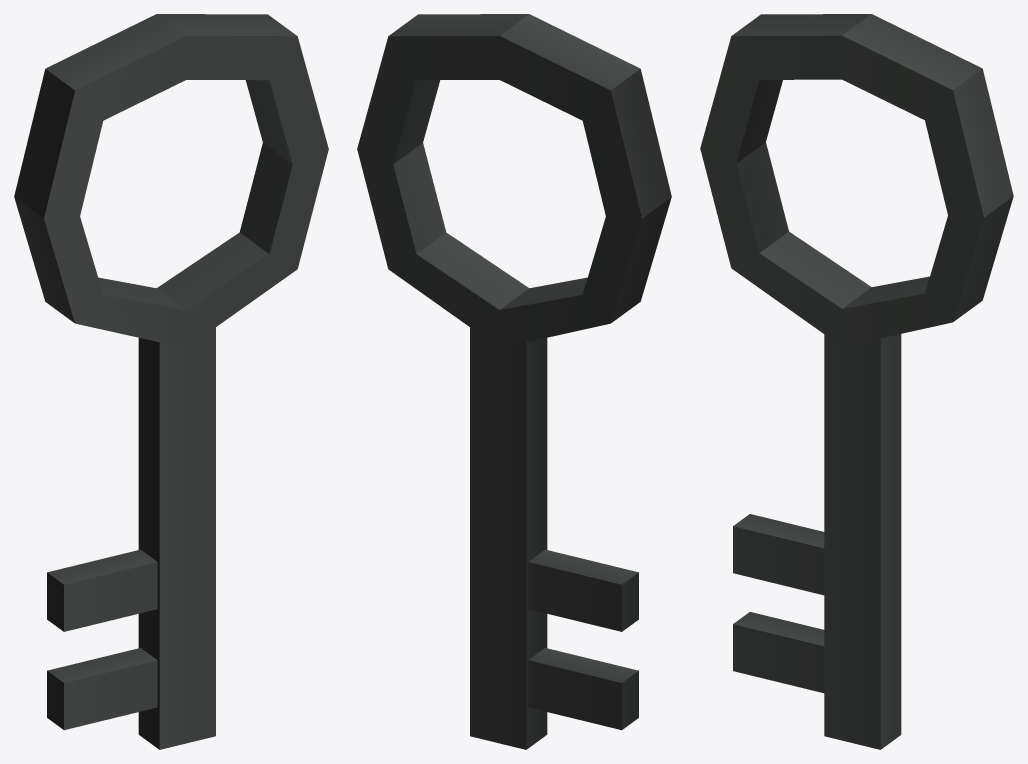
Rendered from Key.fbx.
3 views of the same model, side by side, from view 1: azimuth 30°, elevation 25°; view 2: azimuth 150°, elevation 25°; view 3: azimuth 330°, elevation 25° (orthographic).
Parts seen in each view (by area): view 1: Key; view 2: Key; view 3: Key.
Part boxes in pixels (box(x1,y1,x2,y2)): Key: box(14, 14, 328, 749); Key: box(357, 14, 671, 749); Key: box(700, 14, 1013, 749).
Size of the model in its own units: 10.79 by 25.77 by 1.96.
